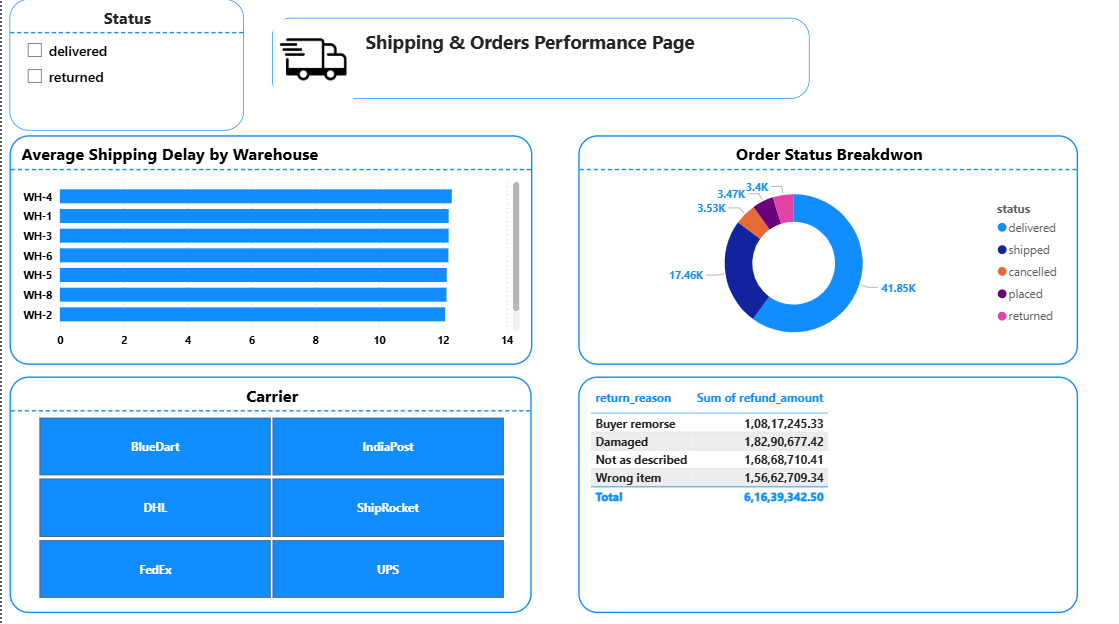

The dashboard page shown, as its layout file describes it:
{"tool":"powerbi","page":{"name":"Shipping Details","canvas":[1280,720],"ordinal":3},"visuals":[{"type":"barChart","title":"Average Shipping Delay by Warehouse","fields":{"Y":["ecom_maang categories.Average Shipping Delay Hours"],"Category":["ecom_maang warehouses.name"]},"box":[8.4,155.4,597.6,262.7],"z":0},{"type":"donutChart","title":"Order Status Breakdwon","fields":{"Category":["ecom_maang orders.status"],"Y":["CountNonNull(ecom_maang orders.order_id)"]},"box":[659,155.4,571.1,262.7],"z":1000},{"type":"tableEx","fields":{"Values":["ecom_maang returns.return_reason","Sum(ecom_maang returns.refund_amount)"]},"box":[658.6,431.4,571.4,270],"z":2000},{"type":"textbox","box":[308.4,21.7,614.5,92.8],"z":3000},{"type":"image","box":[275.9,18.1,160.2,101.2],"z":4000},{"type":"slicer","title":"Status","fields":{"Values":["ecom_maang shipments.status"]},"box":[8,0,268,150],"z":5000},{"type":"slicer","title":"Carrier","fields":{"Values":["ecom_maang shipments.carrier"]},"box":[8.6,431.4,597.1,270],"z":6000}]}

Visuals, with their boxes in screenshot pixels (x1, y1, x2, y2), scaled from the page's 1280x720 canvas onto the 1119x624 screenshot:
"Average Shipping Delay by Warehouse" barChart: 7/135/530/362
"Order Status Breakdwon" donutChart: 576/135/1075/362
tableEx - ecom_maang returns.return_reason x Sum(ecom_maang returns.refund_amount): 576/374/1075/608
textbox: 270/19/807/99
image: 241/16/381/103
"Status" slicer: 7/0/241/130
"Carrier" slicer: 8/374/530/608
